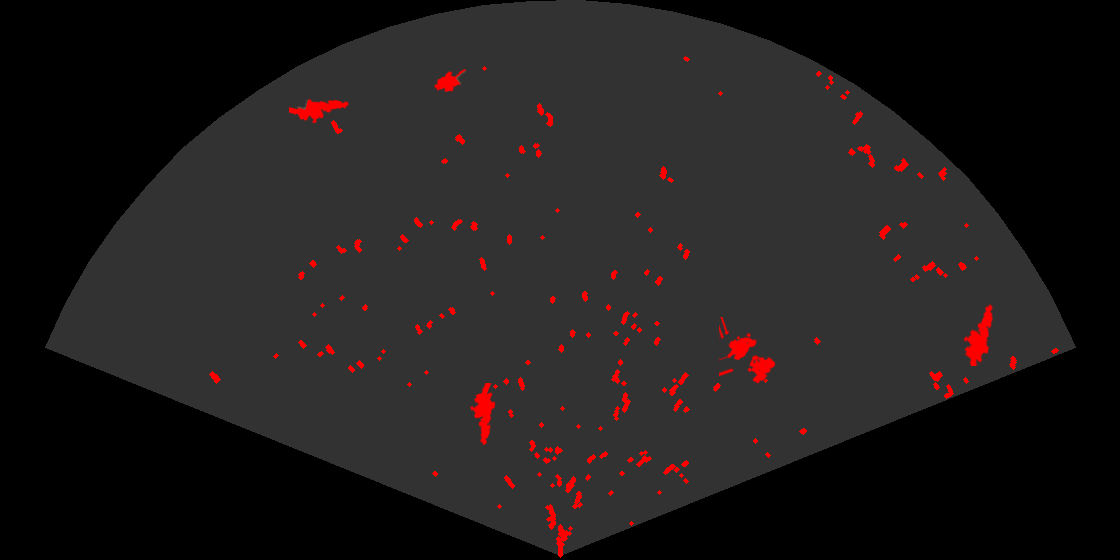AUV: (433, 67, 467, 94)
cage: (719, 317, 777, 385)
frogman: (962, 303, 994, 366), (468, 383, 497, 447), (289, 97, 350, 125)
